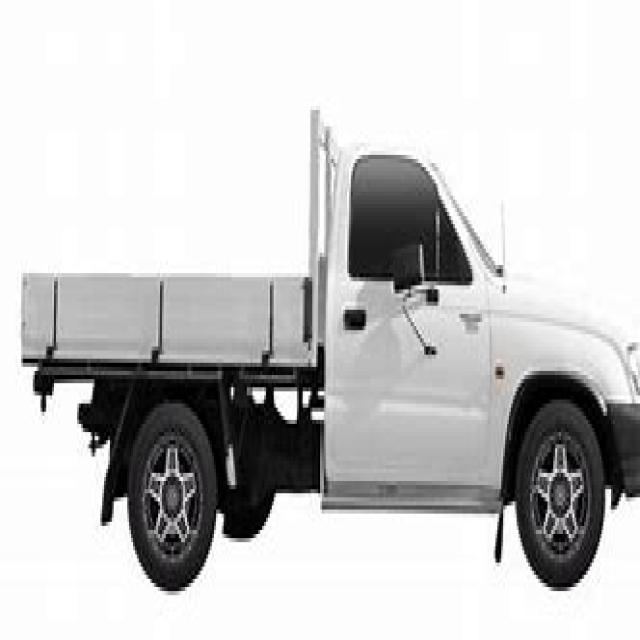light_vehicle: (16, 94, 636, 611)
